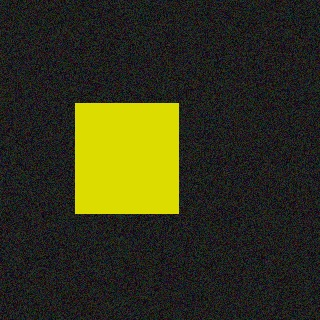yellow_barrel: (76, 103, 178, 214)
